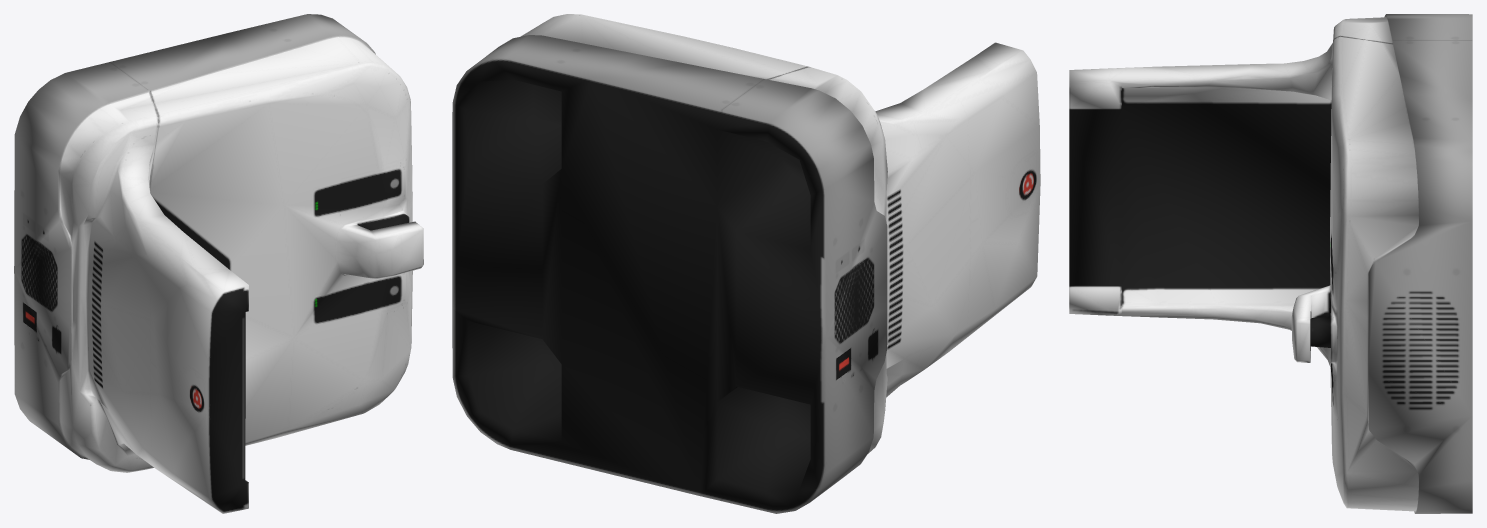
3 renders of one model, left to right at view 1: azimuth 30°, elevation 25°; view 2: azimuth 150°, elevation 25°; view 3: azimuth 270°, elevation 25°, orthographic. The views are drawn at different scales.
Parts seen in each view (by area): view 1: SM_base2_M1KShape; view 2: SM_base2_M1KShape; view 3: SM_base2_M1KShape.
Part boxes in pixels (left/top/right/bottom): SM_base2_M1KShape: left=14, top=14, right=423, bottom=513; SM_base2_M1KShape: left=452, top=14, right=1040, bottom=513; SM_base2_M1KShape: left=1069, top=14, right=1472, bottom=513.
Size of the model in its own units: 0.6694 by 0.6668 by 0.6562.
Materials: 1 (1 with a texture image).
